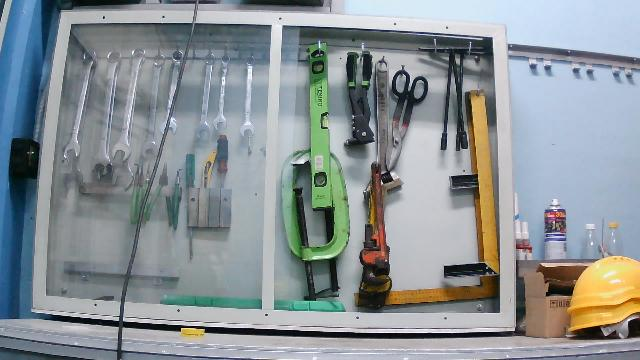water_pass: (307, 41, 334, 213)
